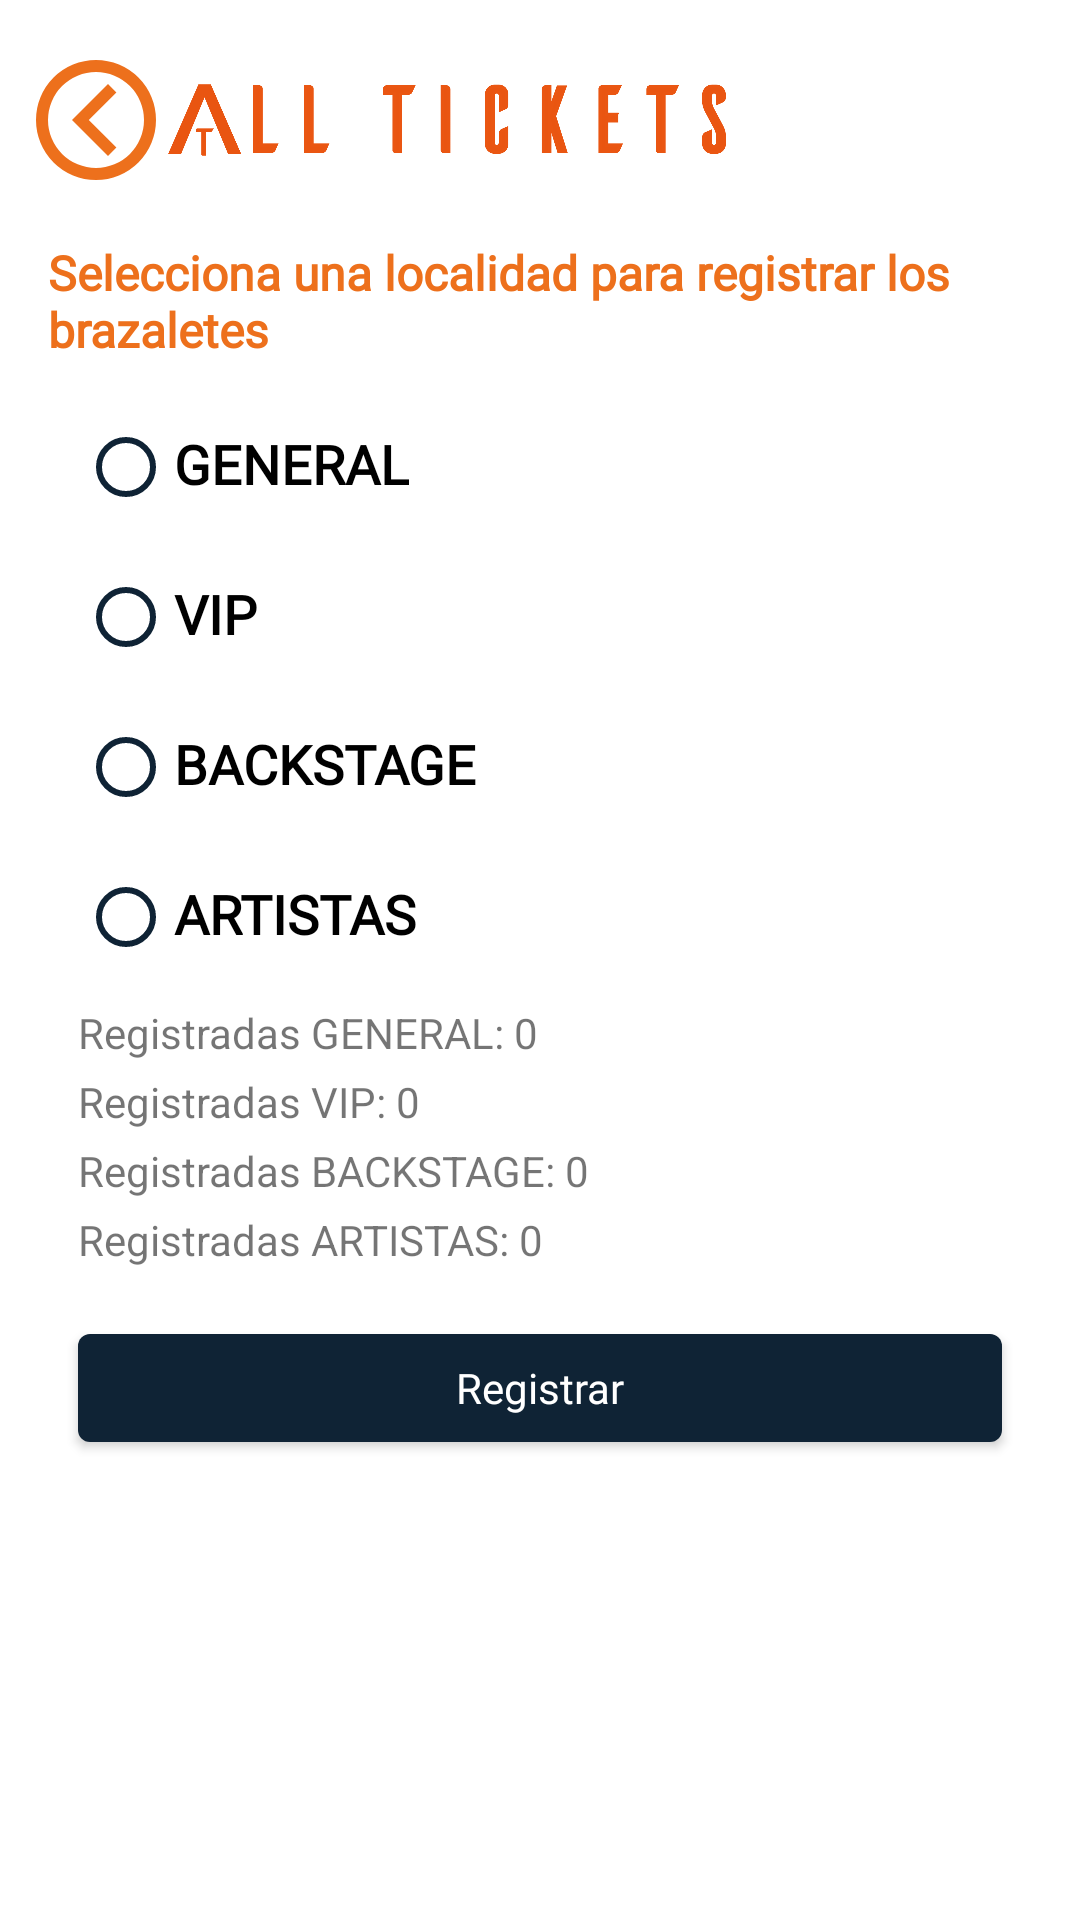

Icon bounding boxes for this 1080px×1920px phone screenshot, format region(x1, y1, x2, y2):
Back: region(36, 60, 156, 180)
